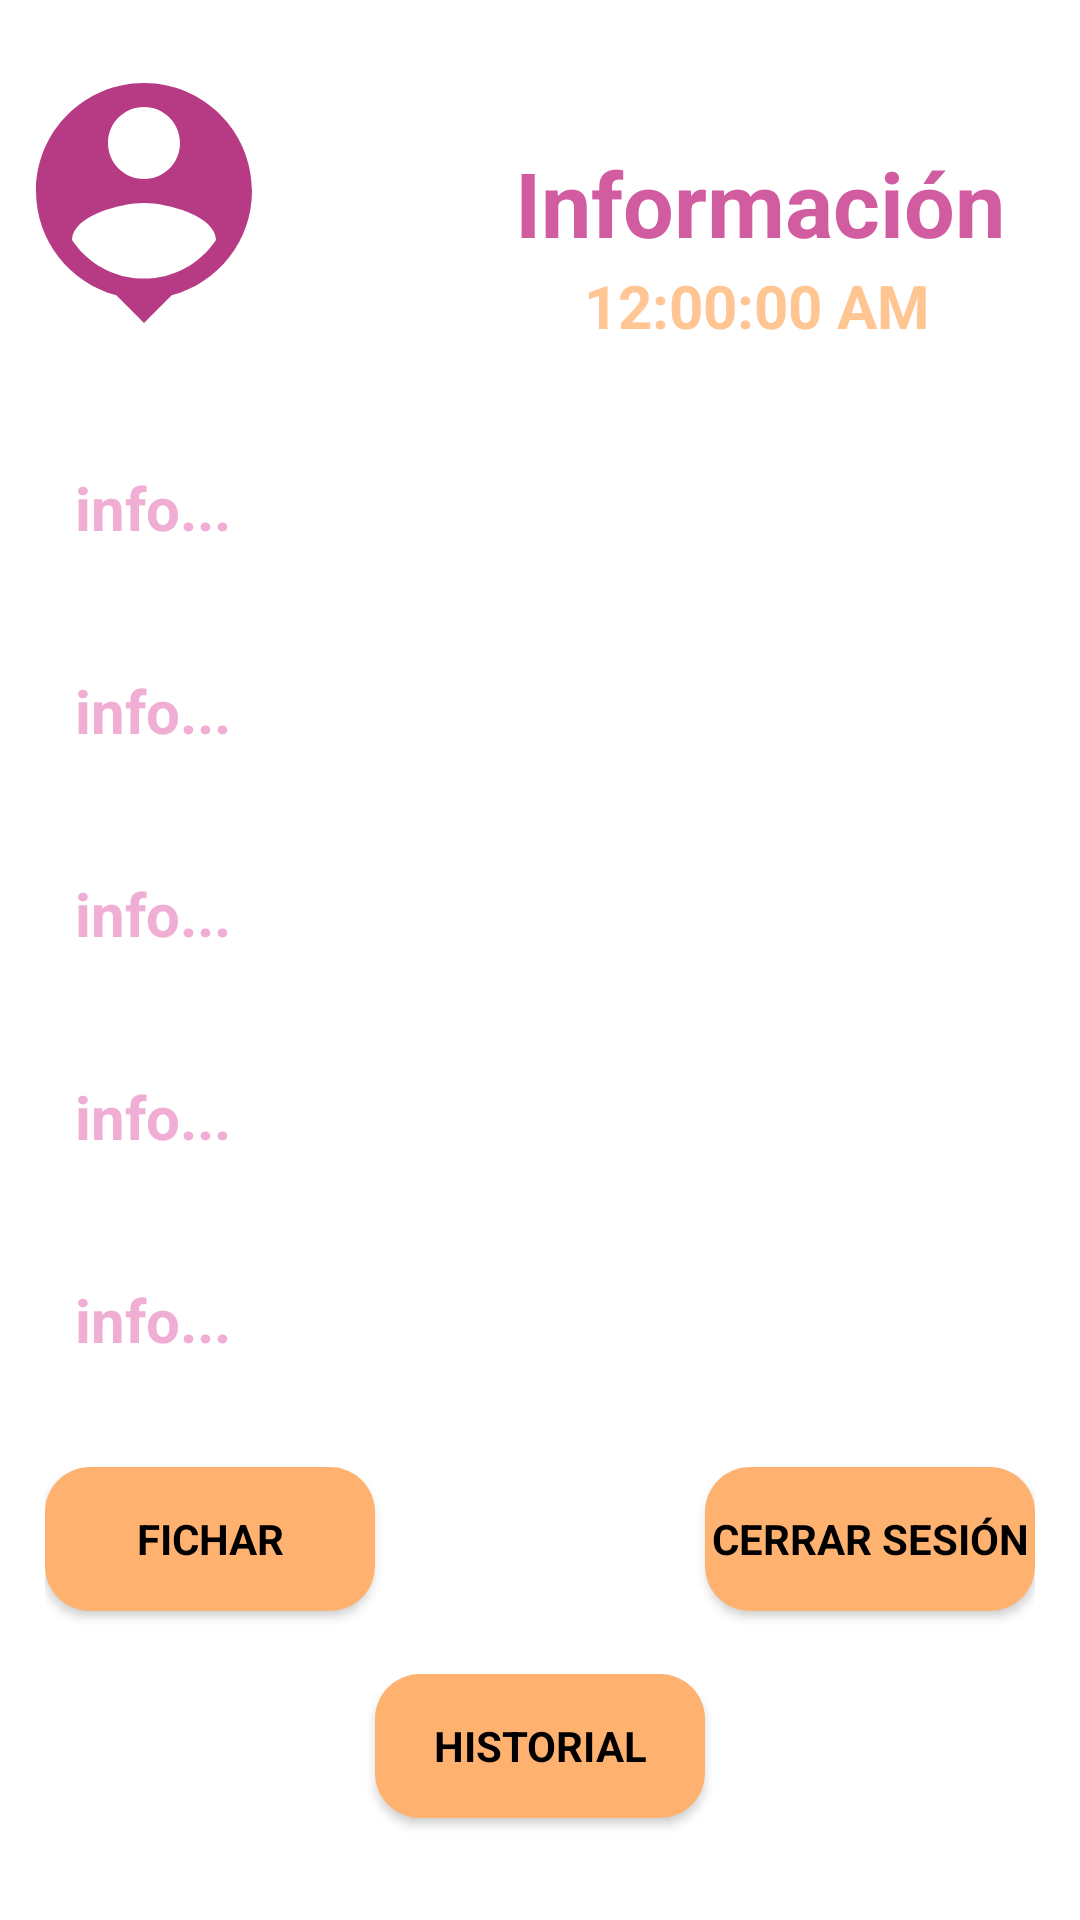

Named icons in this screenshot (1080w x 1920h) and their bounding boxes, (x1, y1, x2, y2):
worker: (36, 83, 252, 323)
